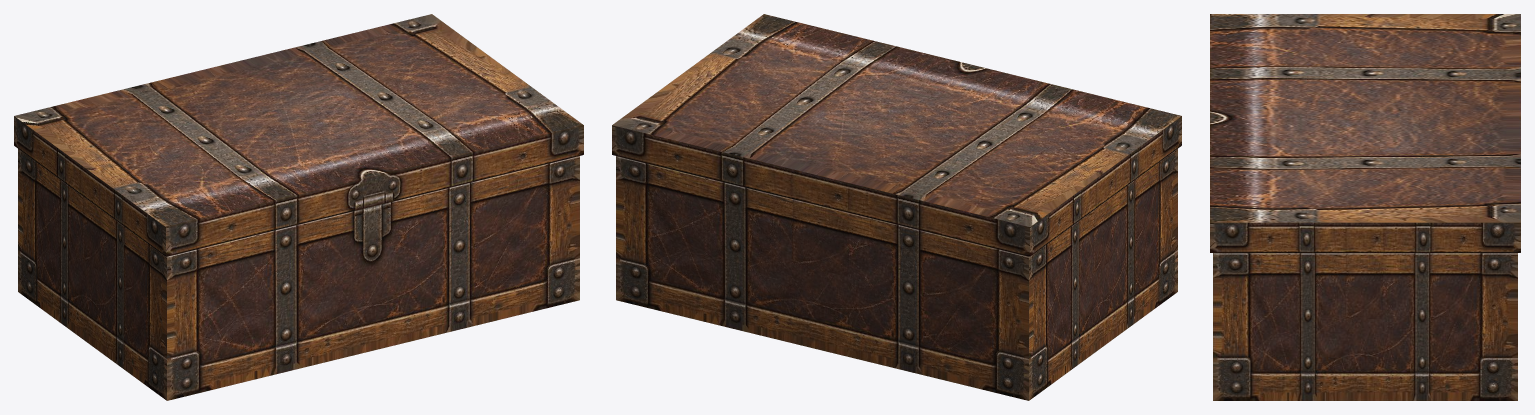
The model's file is travel-chest.glb.
3 renders of one model, left to right at view 1: azimuth 30°, elevation 25°; view 2: azimuth 150°, elevation 25°; view 3: azimuth 270°, elevation 25°, orthographic. The views are drawn at different scales.
Visible parts, largest first — view 1: travel-chest; view 2: travel-chest; view 3: travel-chest.
Boxes of the visible parts, <box> form: travel-chest: <box>14,14,583,400</box>; travel-chest: <box>612,14,1181,400</box>; travel-chest: <box>1210,14,1520,400</box>.
Size of the model in its own units: 0.81 by 0.325 by 0.51.
1 material, 1 textured.
